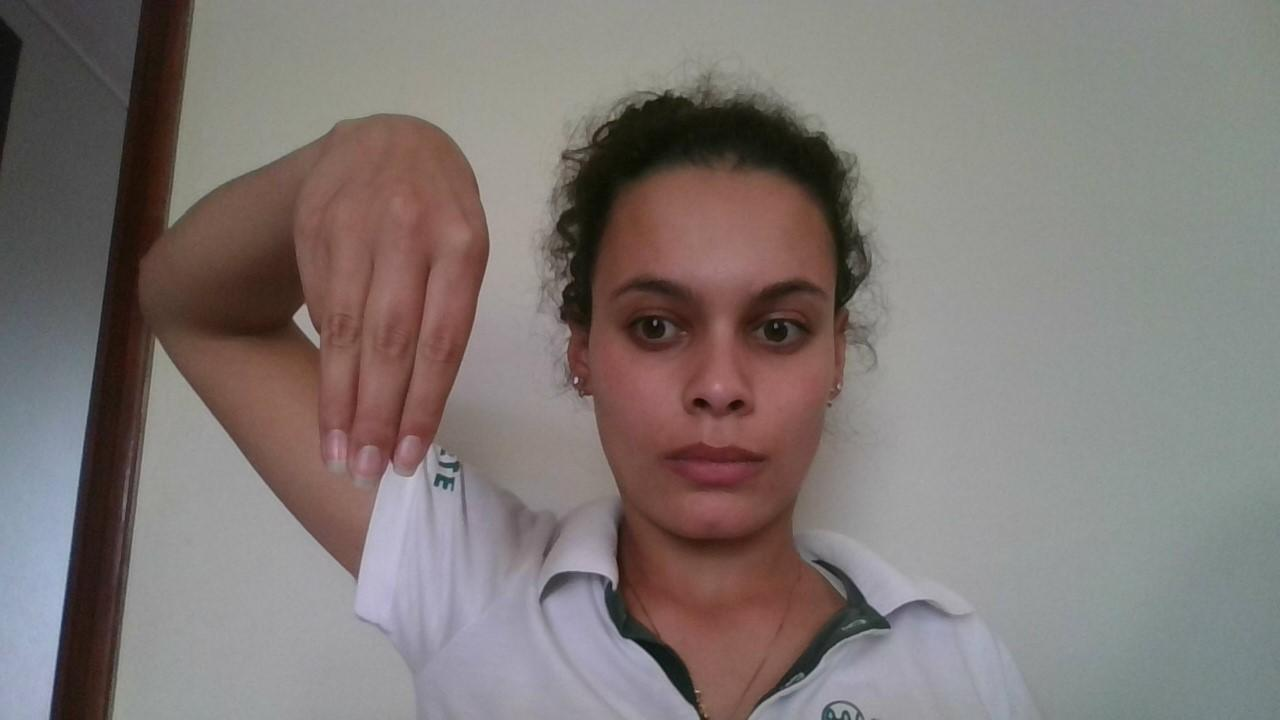M: (296, 104, 490, 500)
